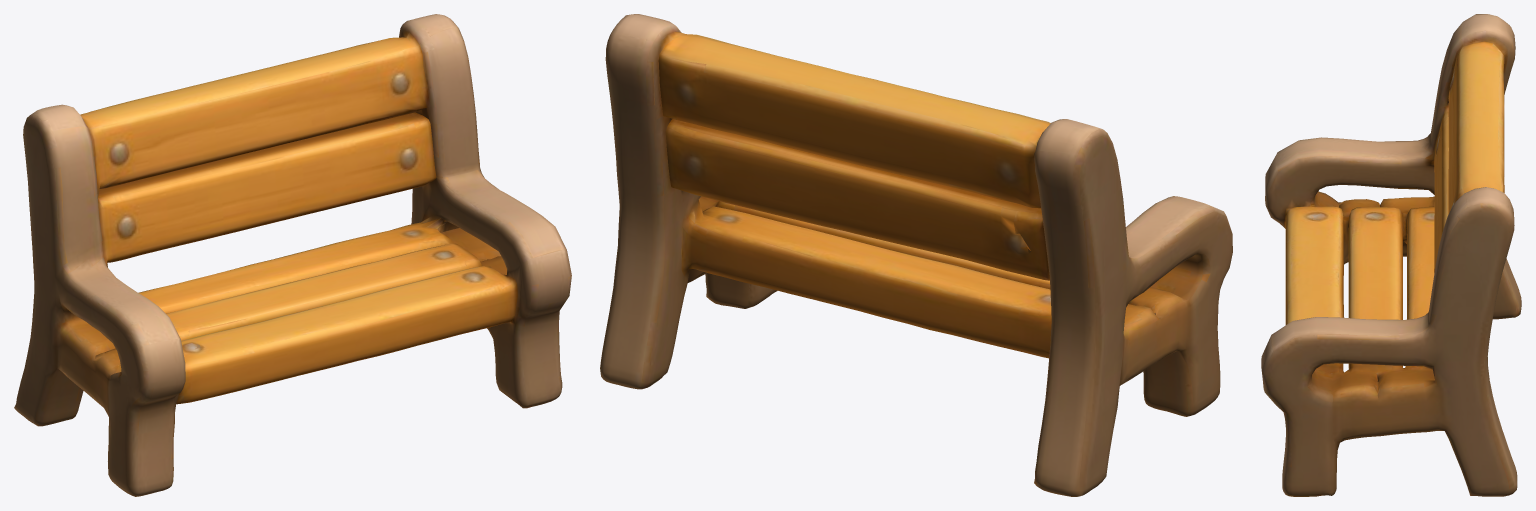
File: bench-wood.glb
3 renders of one model, left to right at view 1: azimuth 30°, elevation 25°; view 2: azimuth 150°, elevation 25°; view 3: azimuth 270°, elevation 25°, orthographic. The views are drawn at different scales.
Parts seen in each view (by area): view 1: tripo_node_fb0a8303-03b6-433d-8fdc-1475c81342d9; view 2: tripo_node_fb0a8303-03b6-433d-8fdc-1475c81342d9; view 3: tripo_node_fb0a8303-03b6-433d-8fdc-1475c81342d9.
Part boxes in pixels (x1,y1,x2,y2): tripo_node_fb0a8303-03b6-433d-8fdc-1475c81342d9: (14, 14, 571, 496); tripo_node_fb0a8303-03b6-433d-8fdc-1475c81342d9: (600, 14, 1232, 496); tripo_node_fb0a8303-03b6-433d-8fdc-1475c81342d9: (1261, 14, 1521, 496).
Size of the model in its own units: 0.9983 by 0.6903 by 0.5508.
1 material, 1 textured.
